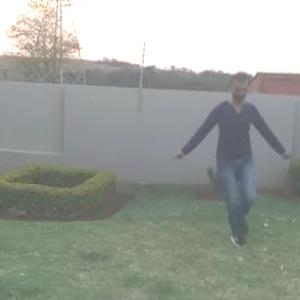land: (185, 72, 293, 230)
